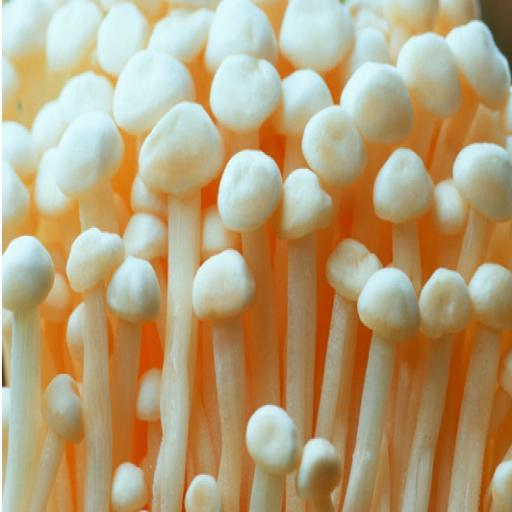Enoki Mushroom: (127, 2, 344, 512), (6, 7, 119, 512), (350, 254, 424, 512)
